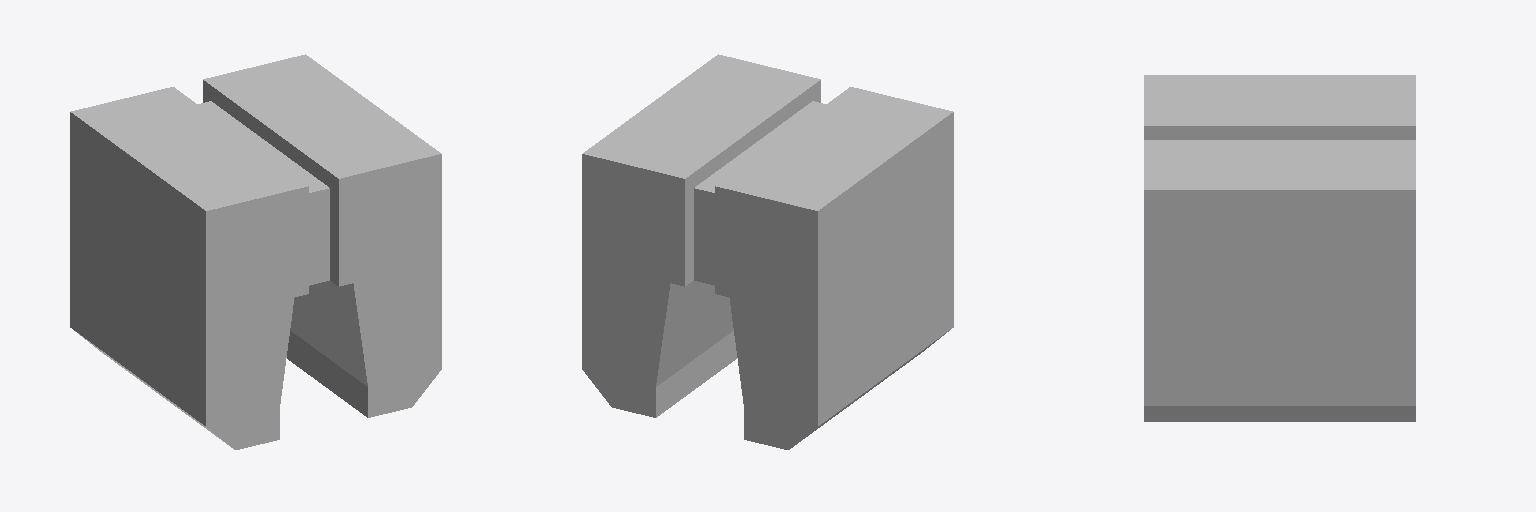
The model's file is stool.obj.
The picture shows the model from 3 angles: view 1: azimuth 30°, elevation 25°; view 2: azimuth 150°, elevation 25°; view 3: azimuth 270°, elevation 25°; orthographic projection.
Parts seen in each view (by area): view 1: cube; view 2: cube; view 3: cube.
Part boxes in pixels (bbox=[...]): cube: bbox=[70, 54, 441, 449]; cube: bbox=[582, 54, 953, 449]; cube: bbox=[1144, 75, 1415, 421].
Bounding box in the file's own units: 1 × 1 × 1.